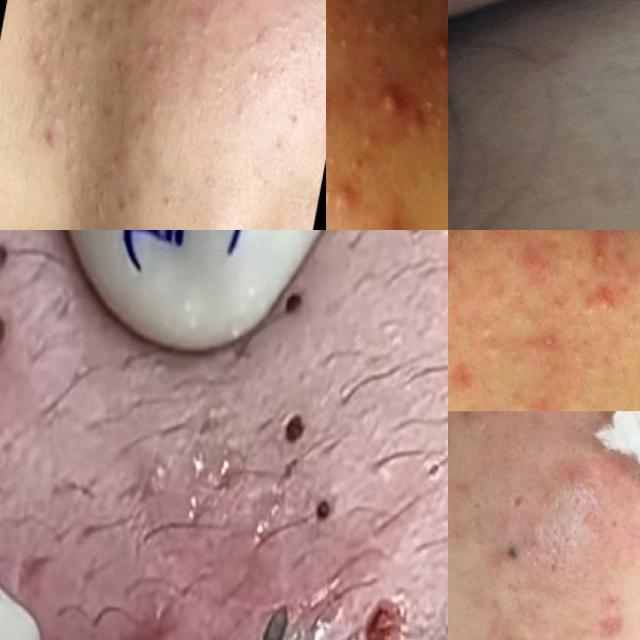acne_scars: (581, 610, 629, 640)
comedone: (49, 116, 93, 198), (53, 19, 98, 74), (280, 392, 321, 452), (307, 480, 339, 540), (475, 308, 504, 368), (85, 179, 112, 228), (283, 274, 307, 325), (0, 230, 18, 295), (24, 28, 51, 70), (139, 22, 168, 61), (428, 21, 448, 69), (192, 5, 216, 42), (237, 57, 263, 91), (281, 30, 303, 70), (0, 311, 14, 367), (448, 303, 468, 338), (232, 32, 254, 57), (20, 0, 46, 15)
folliculitis: (580, 249, 615, 274), (533, 328, 563, 357)
papule: (552, 455, 600, 502), (28, 105, 69, 154), (483, 536, 527, 579)
pustule: (326, 166, 361, 230), (374, 75, 412, 124), (362, 212, 416, 230)
